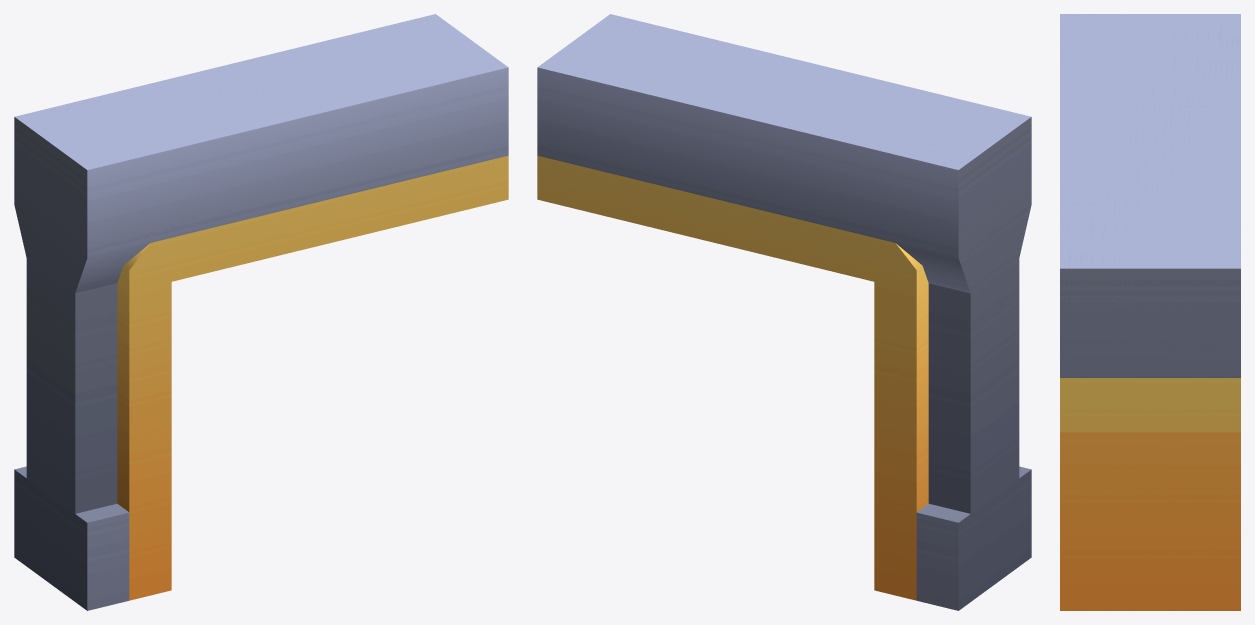
File: wall-door-edge.glb
3 renders of one model, left to right at view 1: azimuth 30°, elevation 25°; view 2: azimuth 150°, elevation 25°; view 3: azimuth 270°, elevation 25°, orthographic. The views are drawn at different scales.
Parts seen in each view (by area): view 1: wall-door-edge; view 2: wall-door-edge; view 3: wall-door-edge.
Boxes of the visible parts, x1,y1,x2,y2 form: wall-door-edge: (14, 14, 508, 610); wall-door-edge: (537, 14, 1031, 610); wall-door-edge: (1060, 14, 1240, 610).
Bounding box in the file's own units: 1 × 1 × 0.3.
Materials: 1 (1 with a texture image).
